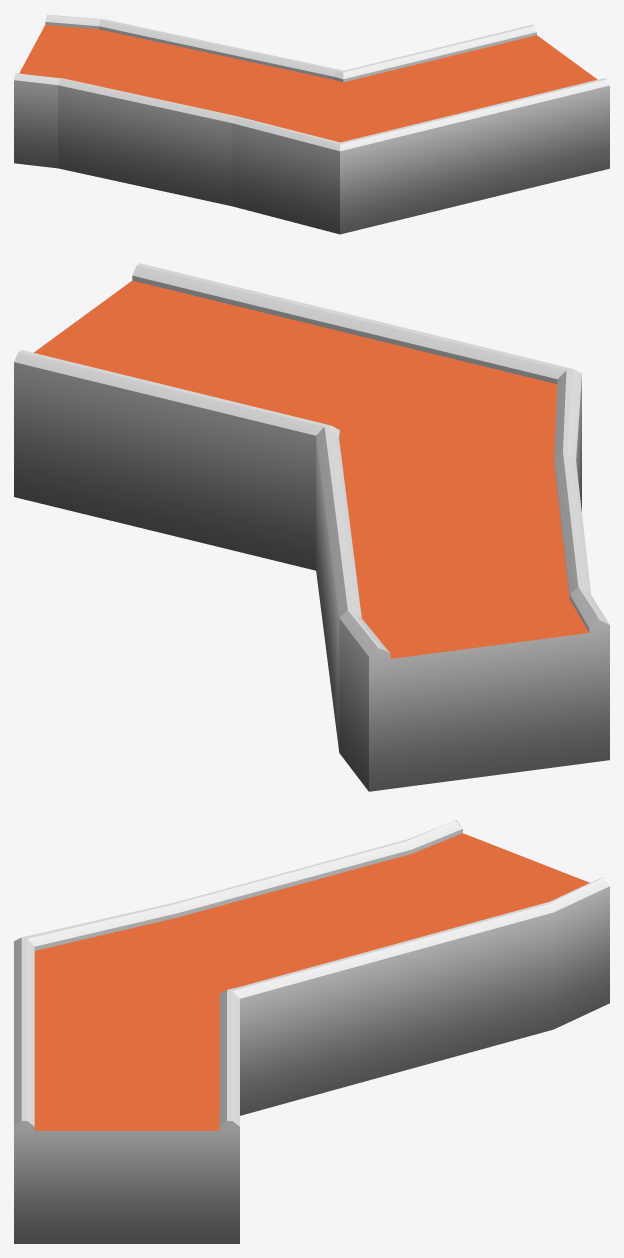
File: Y_Intersect_Pavement_Left.fbx
3 renders of one model, top to bottom at view 1: azimuth 30°, elevation 25°; view 2: azimuth 150°, elevation 25°; view 3: azimuth 270°, elevation 25°, orthographic. The views are drawn at different scales.
Parts seen in each view (by area): view 1: Y_Intersect_Pavement_Left; view 2: Y_Intersect_Pavement_Left; view 3: Y_Intersect_Pavement_Left.
Boxes of the visible parts, left/top/right/bottom form: Y_Intersect_Pavement_Left: left=14, top=14, right=609, bottom=234; Y_Intersect_Pavement_Left: left=14, top=263, right=609, bottom=791; Y_Intersect_Pavement_Left: left=14, top=820, right=609, bottom=1243.
Bounding box in the file's own units: 257 × 48.52 × 213.
